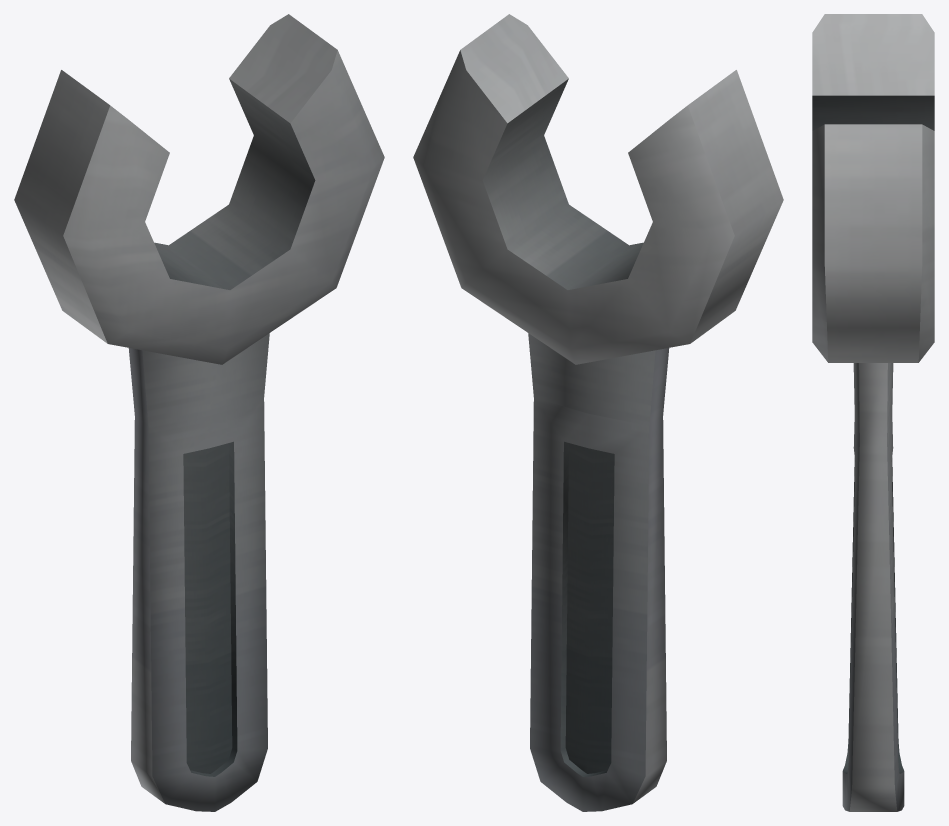
File: wrench.fbx
3 views of the same model, side by side, from view 1: azimuth 30°, elevation 25°; view 2: azimuth 150°, elevation 25°; view 3: azimuth 270°, elevation 25° (orthographic).
Parts seen in each view (by area): view 1: wrench1.002; view 2: wrench1.002; view 3: wrench1.002.
Part boxes in pixels (x1,y1,x2,y2): wrench1.002: [14, 14, 384, 811]; wrench1.002: [413, 14, 783, 811]; wrench1.002: [812, 14, 934, 811].
Size of the model in its own units: 17.22 by 37.92 by 5.7.
